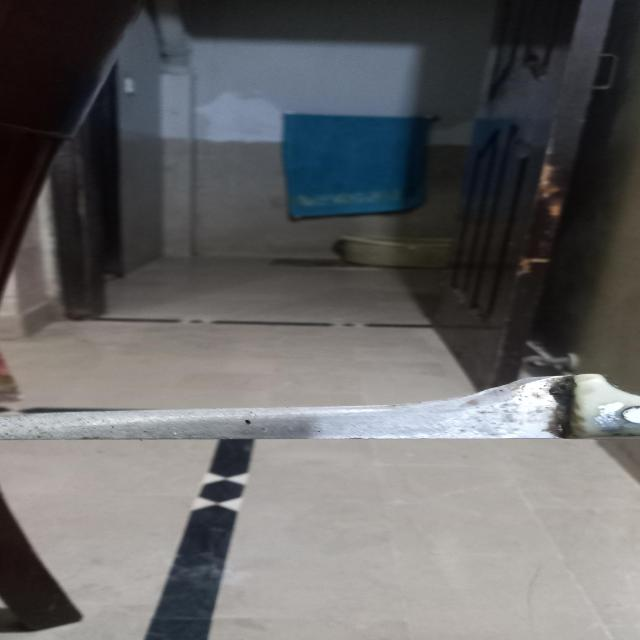Knife: (0, 374, 640, 443)
